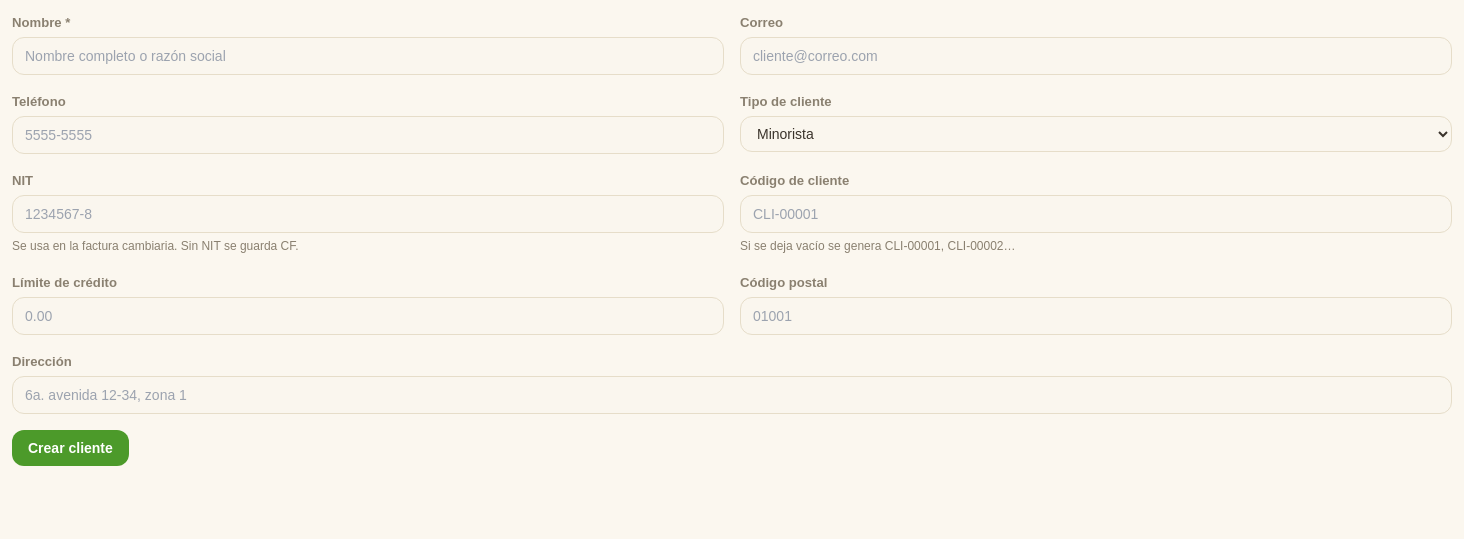
Scenario: FormularioCliente › crea el cliente en la variante de página y muestra la confirmación
This screenshot has width=1464, height=539.
In the field labelled "Nombre *": (368, 56) [12, 37, 724, 75], type "Ana López"
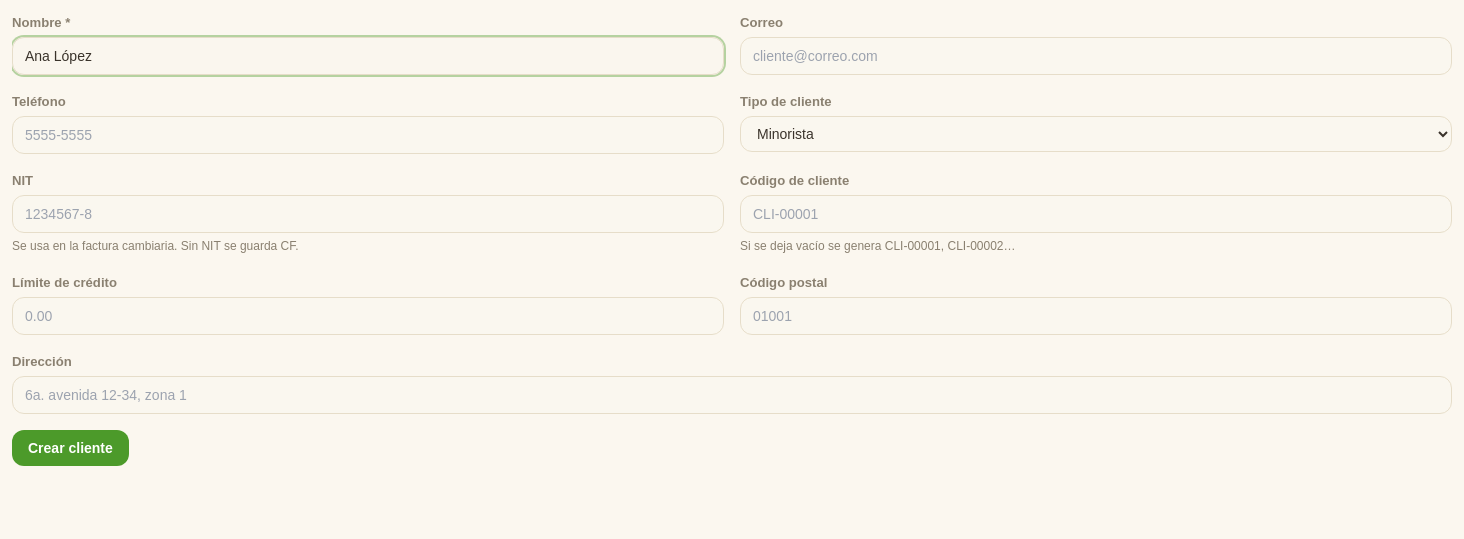
In the field labelled "Correo": (1096, 56) [740, 37, 1452, 75], type "ana@cliente.com"
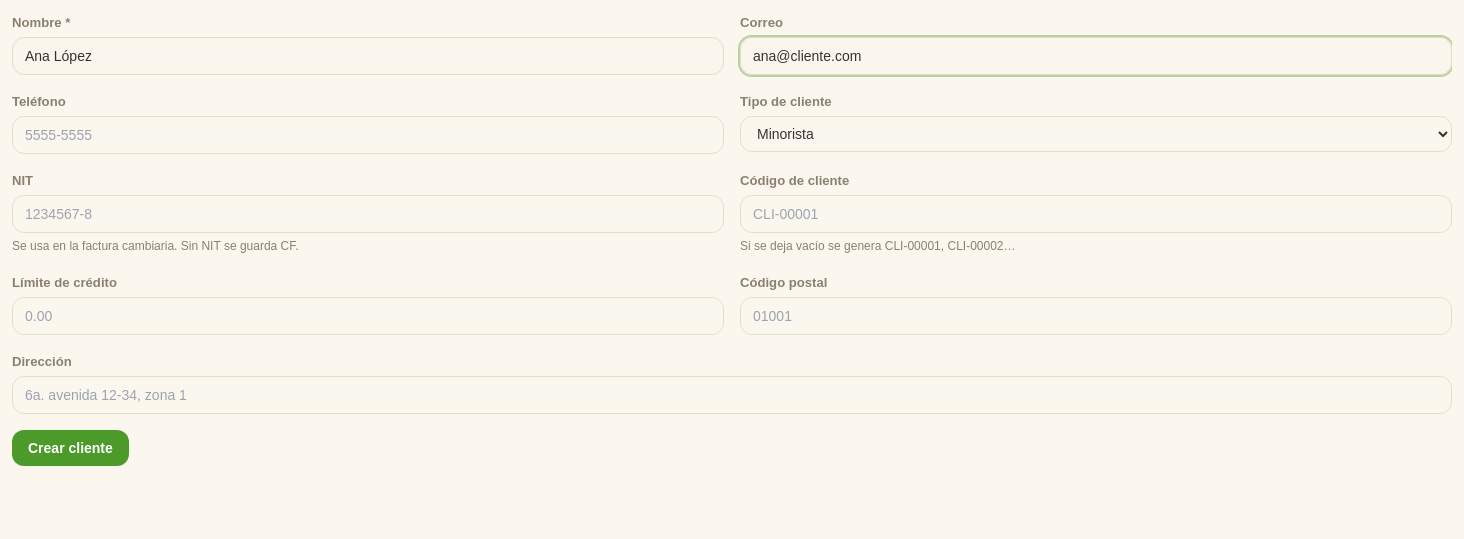
Click the button "Crear cliente": (70, 448) [12, 430, 129, 466]
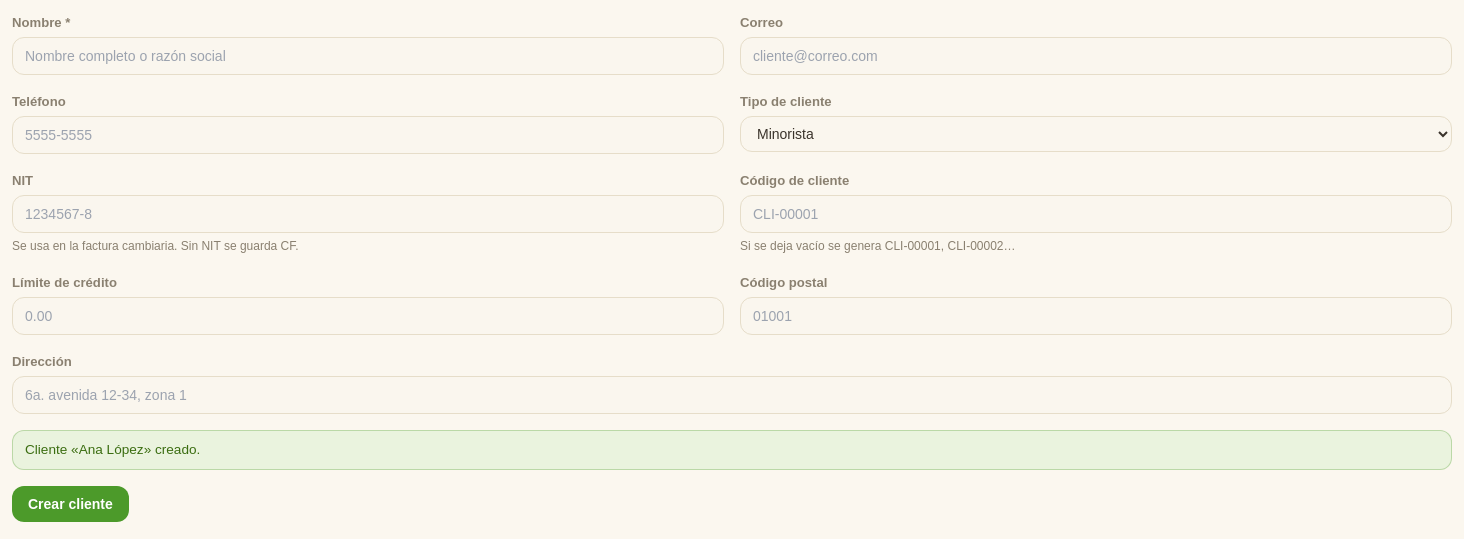
Now the text "Cliente «Ana López» creado." is shown, box [12, 430, 1452, 470]
